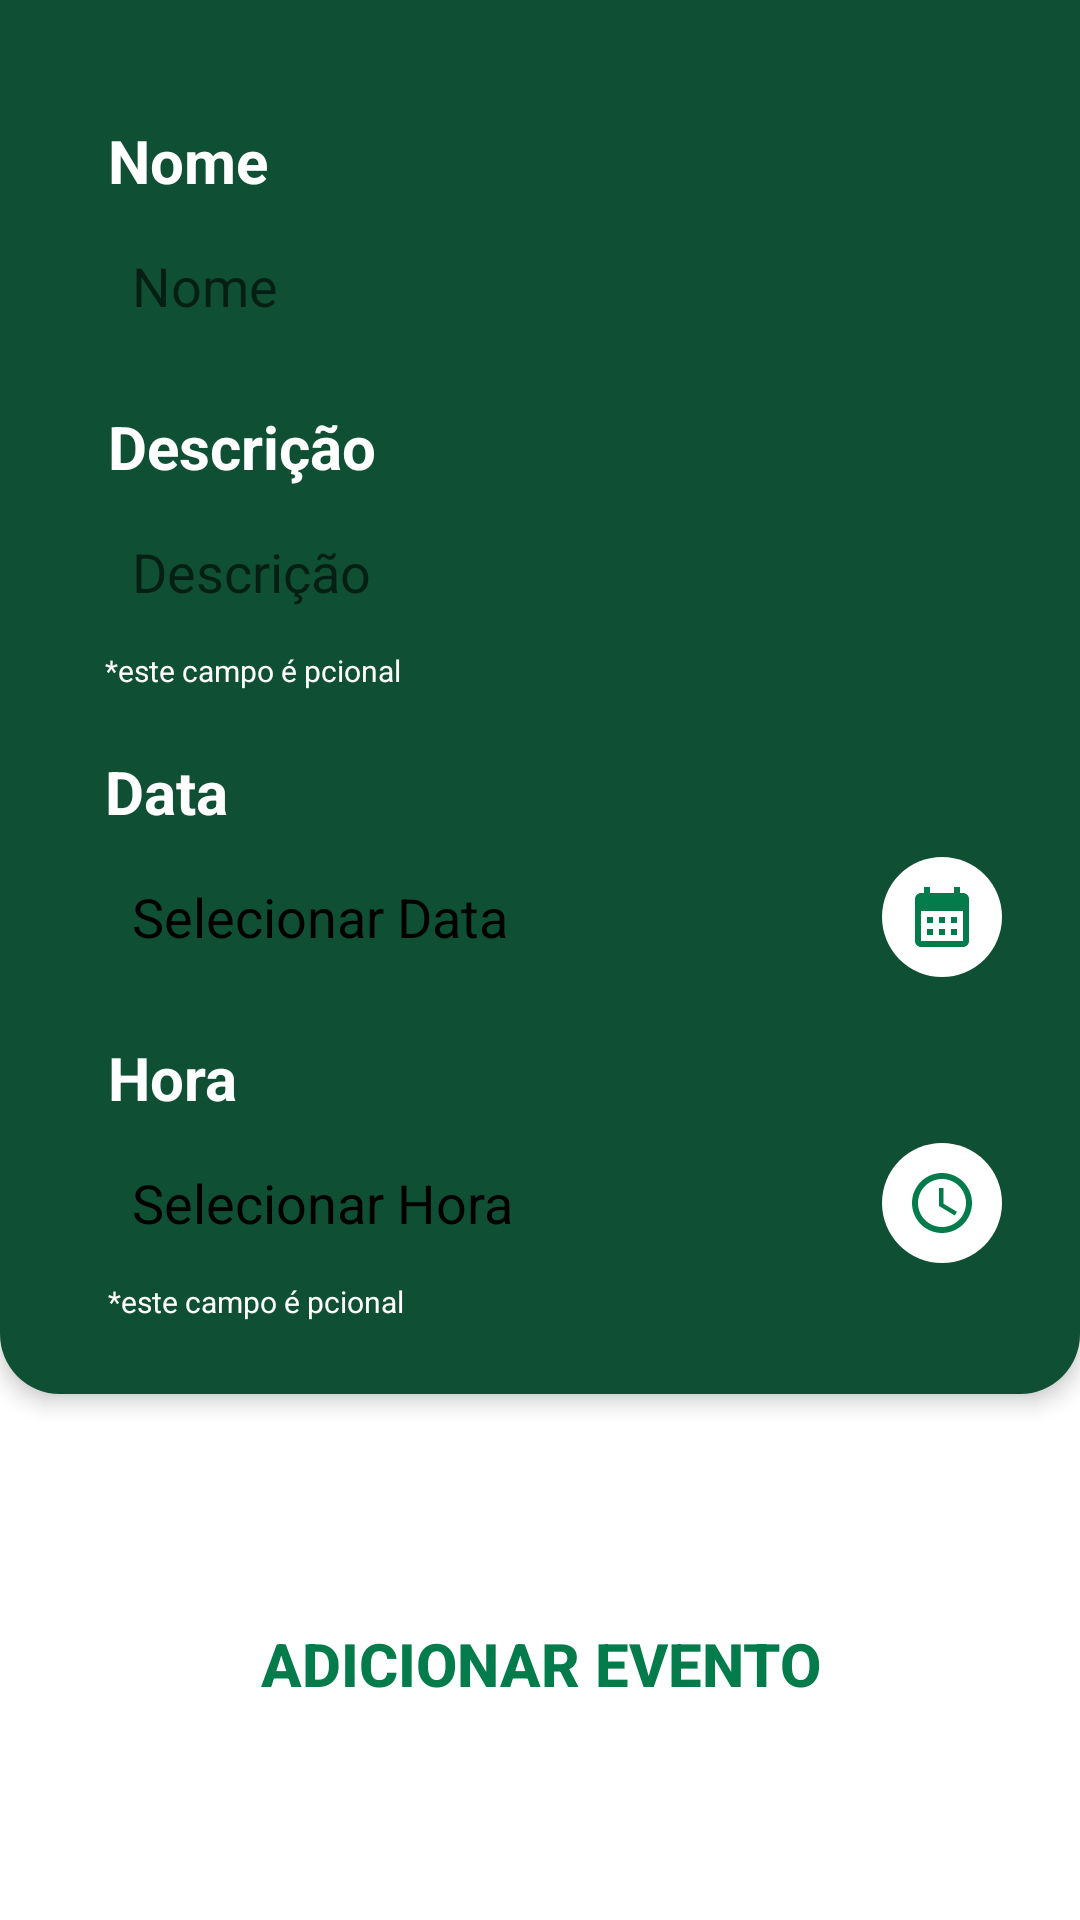

Icon bounding boxes for this 1080 x 1920 phone screenshot, format (x1, y1, x2, y2):
date picker: (882, 857, 1002, 977)
time picker: (882, 1143, 1002, 1263)
